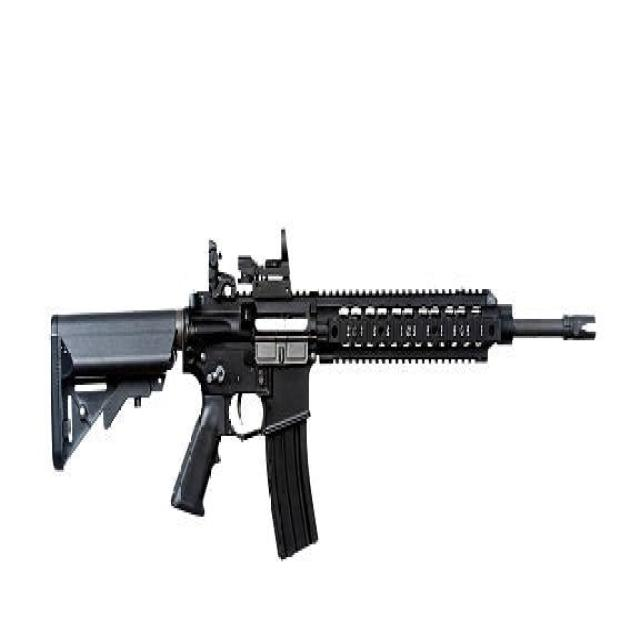rifle: (45, 221, 604, 576)
